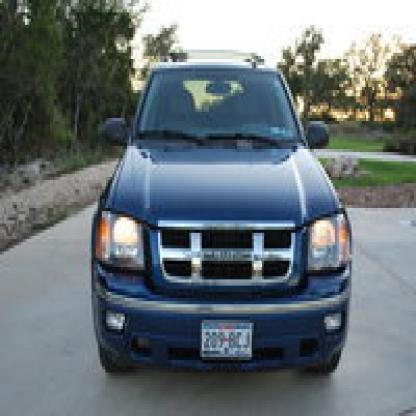car: (77, 65, 351, 379)
